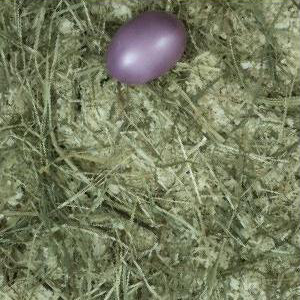egg: (106, 12, 189, 85)
